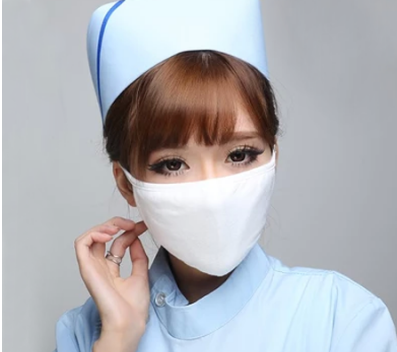face_mask: (133, 88, 274, 264)
